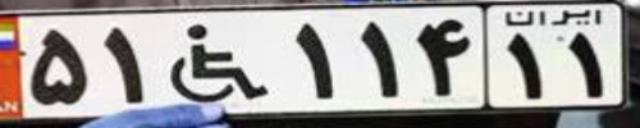1: (103, 26, 143, 103), (359, 21, 399, 96), (295, 22, 334, 98), (566, 31, 603, 98), (504, 33, 540, 98)
4: (410, 17, 471, 97)
5: (31, 29, 89, 104)
malol: (164, 23, 270, 102)
